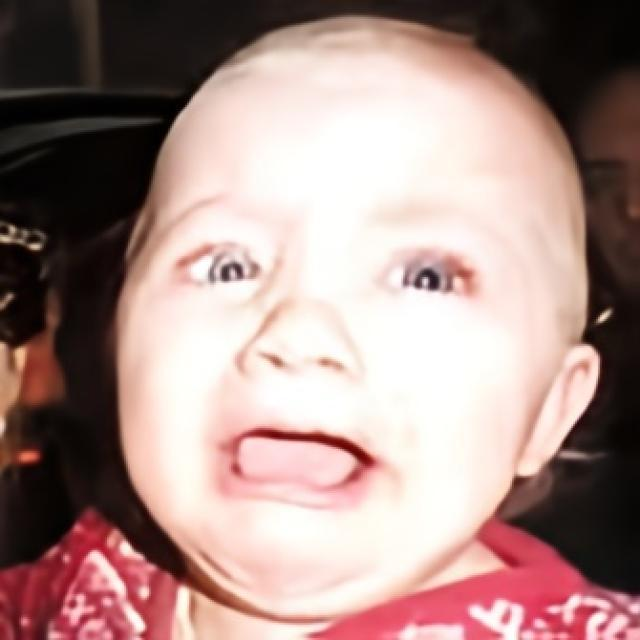fear: (114, 20, 596, 619)
